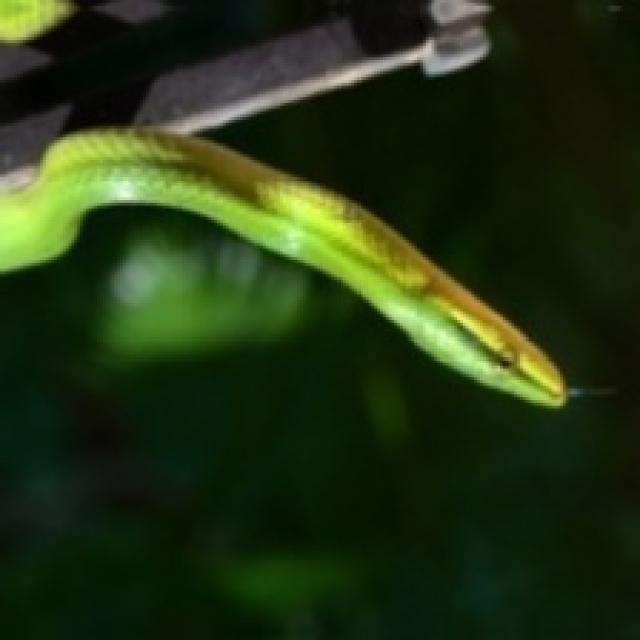red-tailed green ratsnake: (0, 129, 566, 406)
